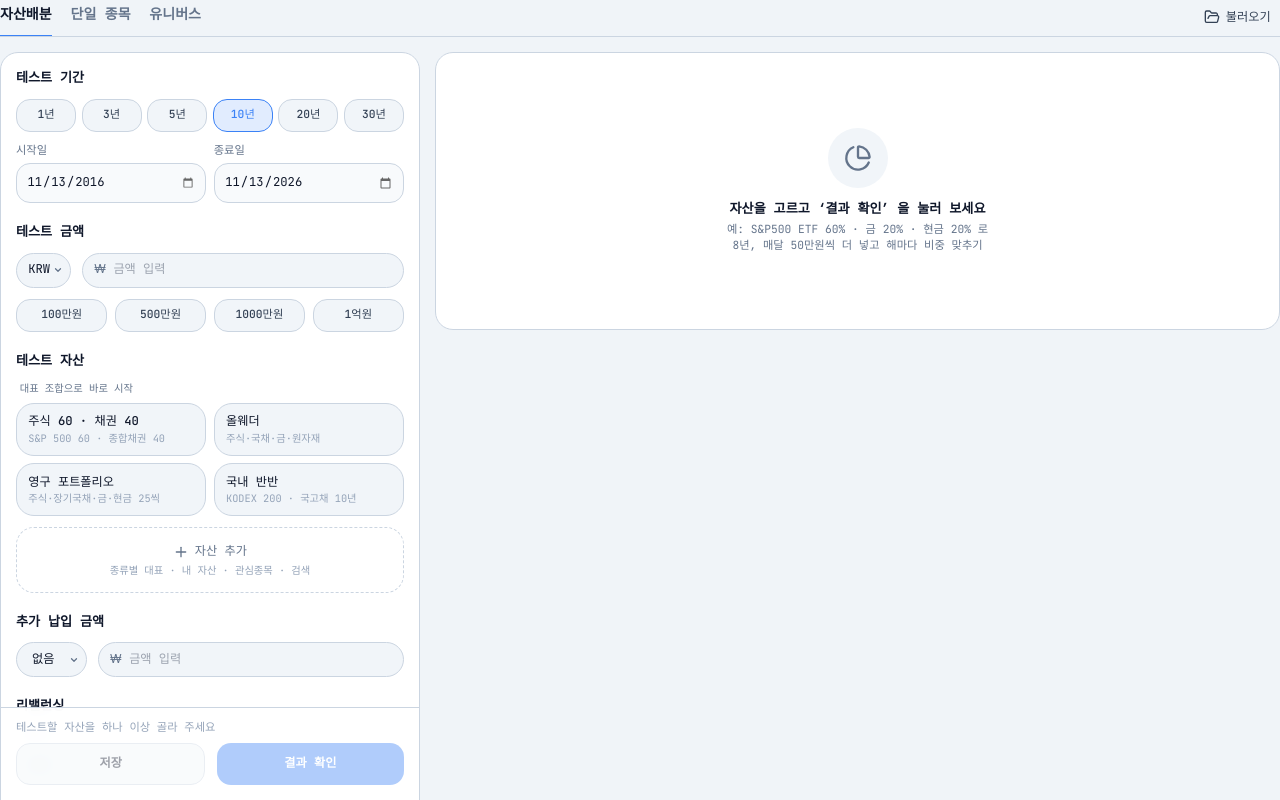
it: 불러오기 창에 둘 다 모인다 › 자산배분과 매매 전략을 칩으로 가른다 — 처음 칸은 지금 탭에 맞춘다
Click the button "불러오기": click(1237, 17) [1195,3,1279,32]
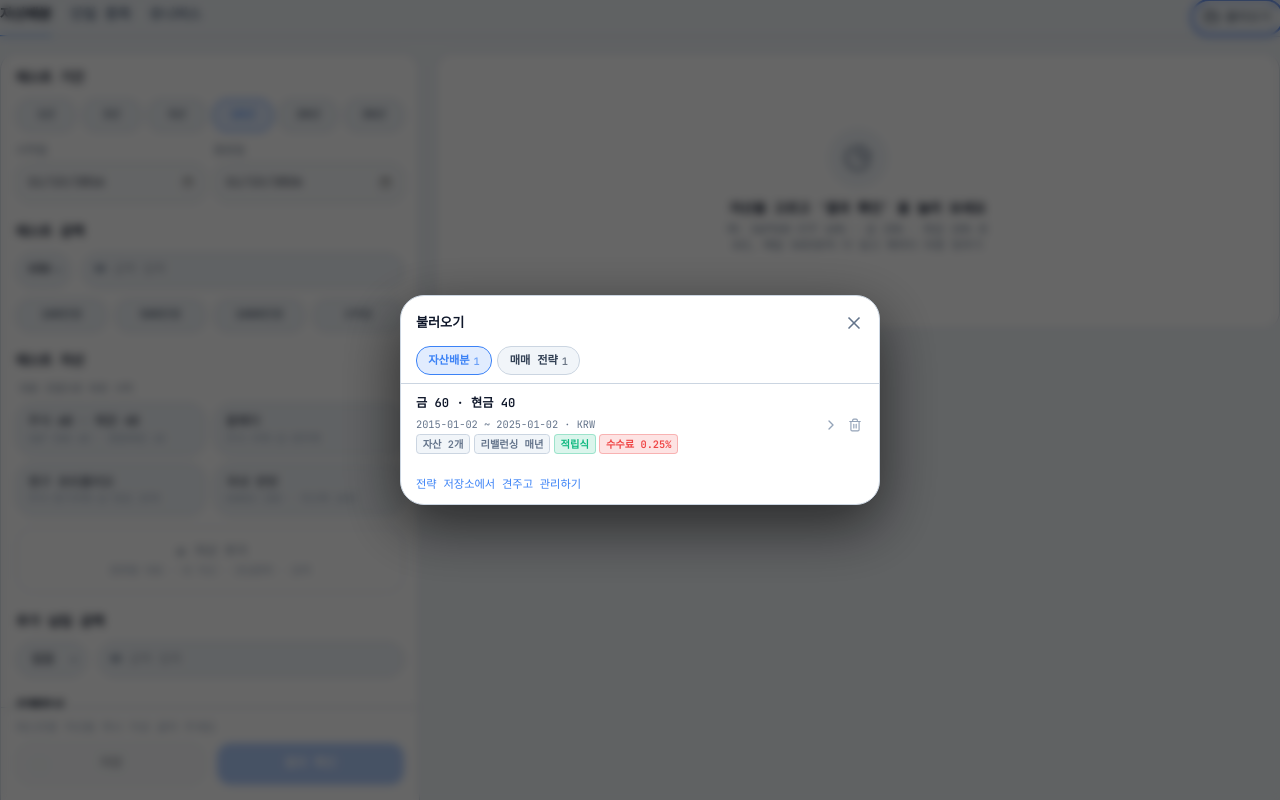
Expected: the text "RSI 반등" is not shown
Now the text "금 60 · 현금 40" is shown, box [416,395,515,411]
Click the tab "매매 전략 1": click(539, 361) [498,346,580,375]
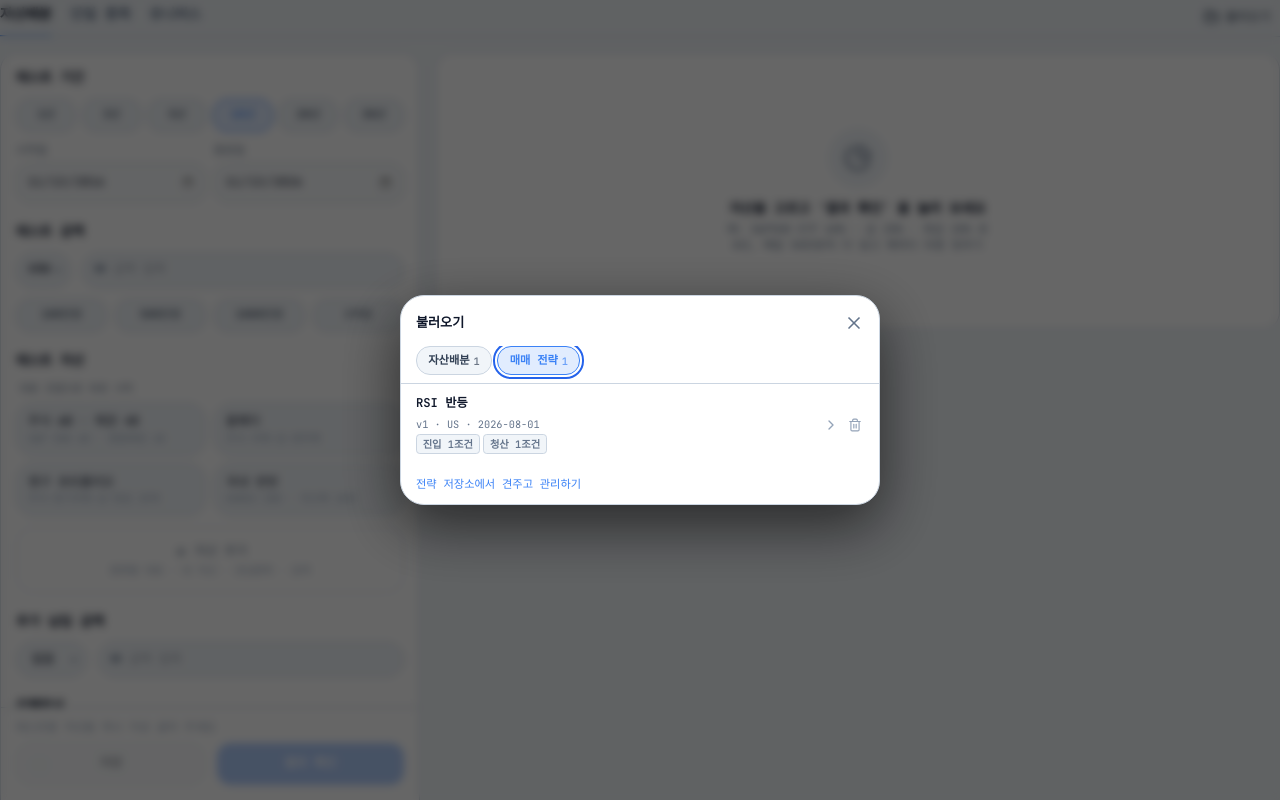
Now the text "RSI 반등" is shown, box [416,395,468,411]
Now the button "금 60 · 현금 40" is gone
